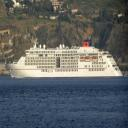cruises: (6, 38, 126, 82)
